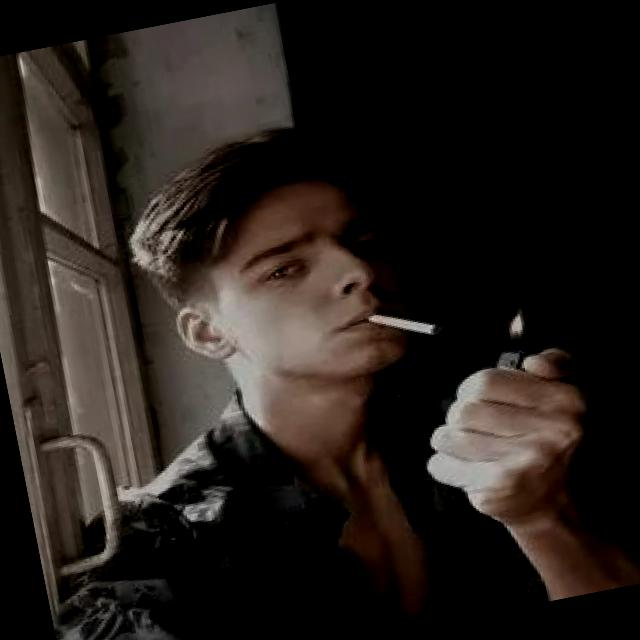smoke: (364, 294, 452, 354)
